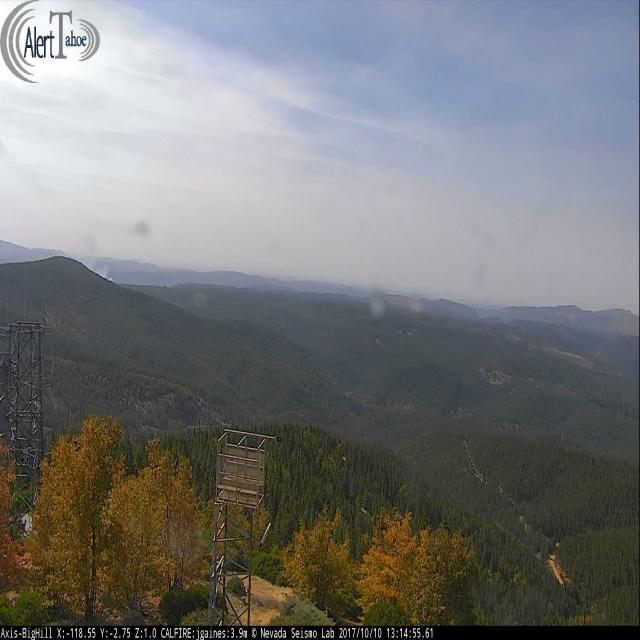smoke: (82, 250, 113, 285)
